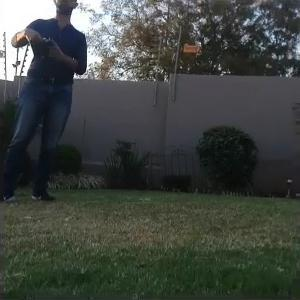follow: (0, 0, 92, 207)
